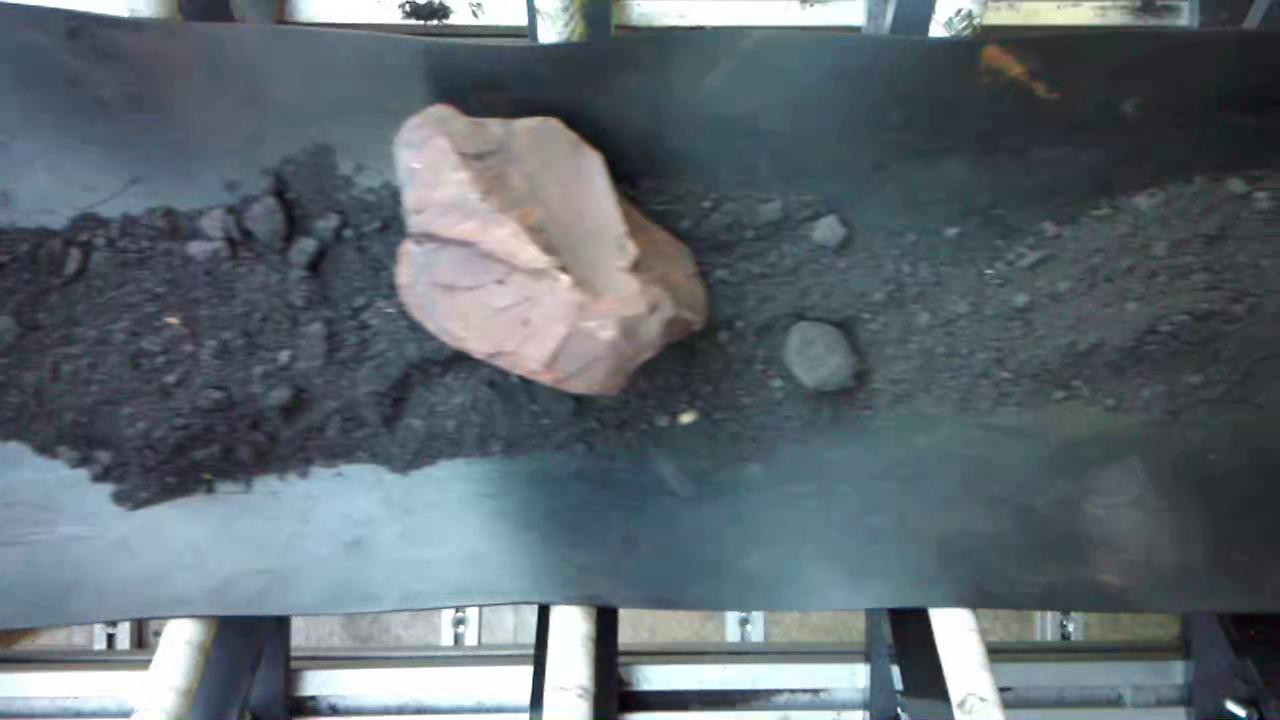conveyor: (1, 41, 1280, 601)
